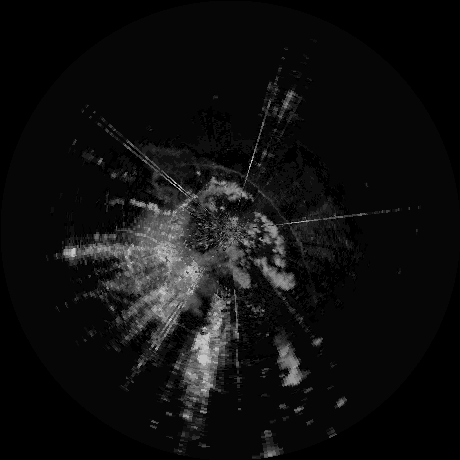frontgust: (198, 166, 305, 262)
